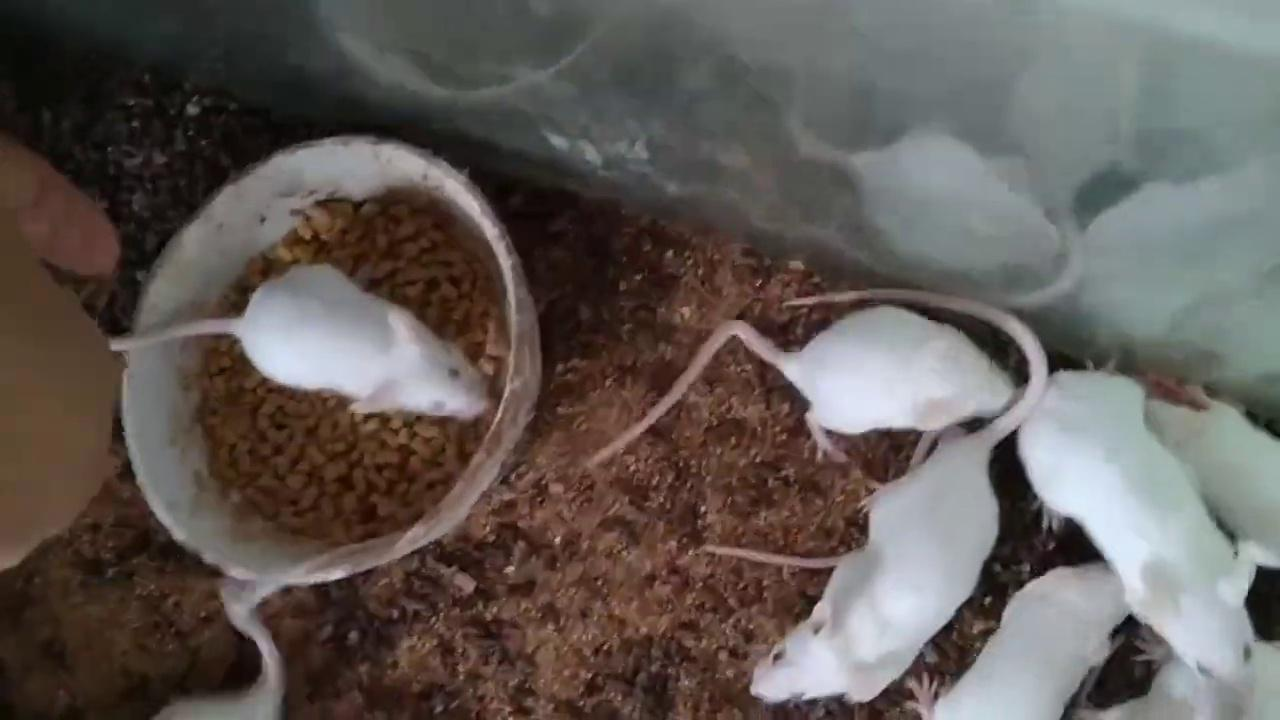rat: (749, 289, 1048, 702), (1017, 370, 1257, 696), (590, 306, 1016, 465), (111, 263, 492, 419), (906, 563, 1130, 720), (1147, 383, 1280, 569)
